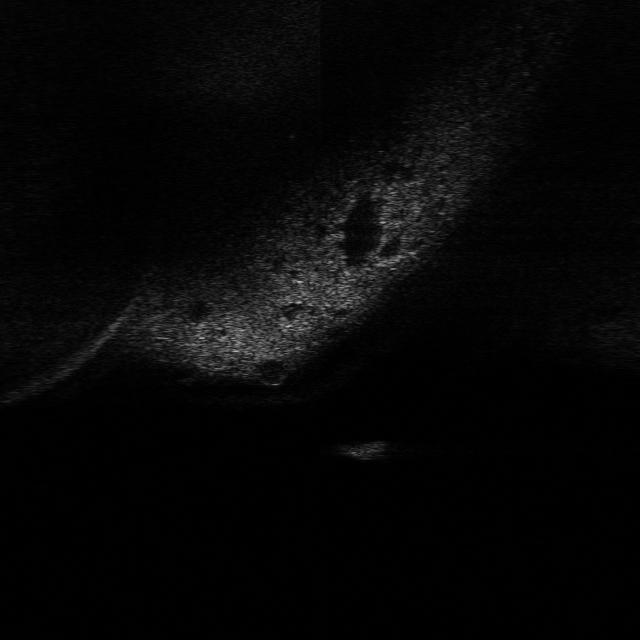cube: (334, 435, 400, 465)
